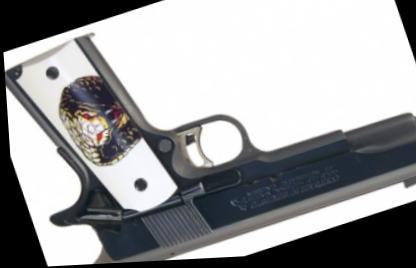pistol: (0, 0, 416, 265)
